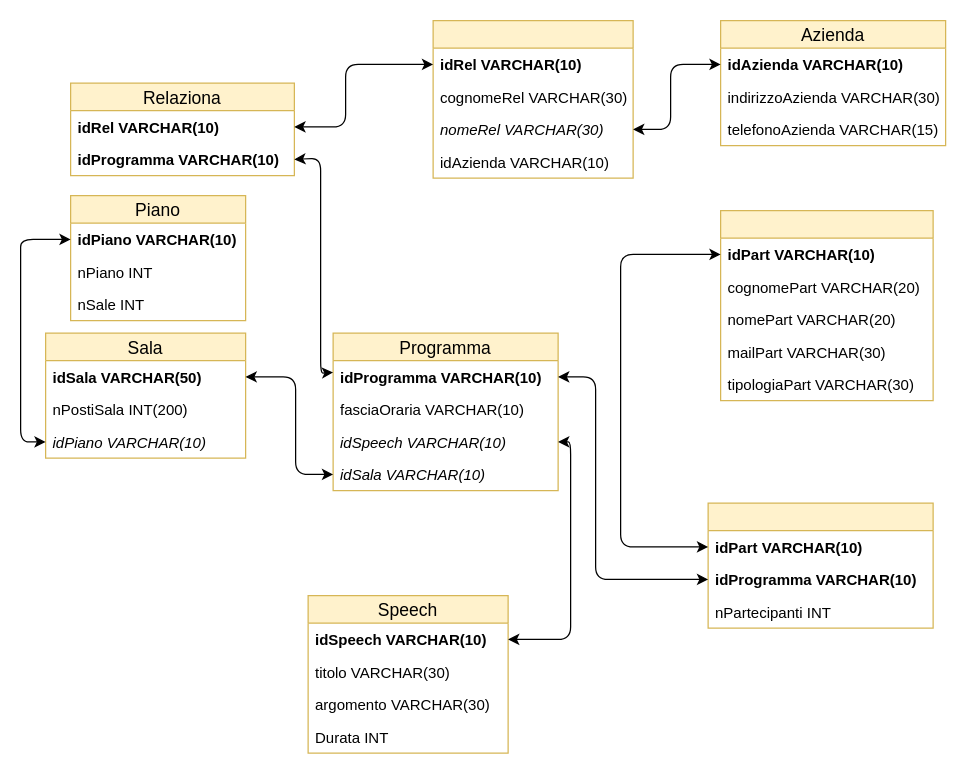
Some shapes in this 966 by 774 pixel diagram are drawn without their labels. The box of each missing label's shape, as (x1, y1, x2, y2) in pixels:
Composto: (707, 502, 933, 628)
Partecipante: (719, 209, 933, 401)
Relatore: (432, 19, 633, 178)
